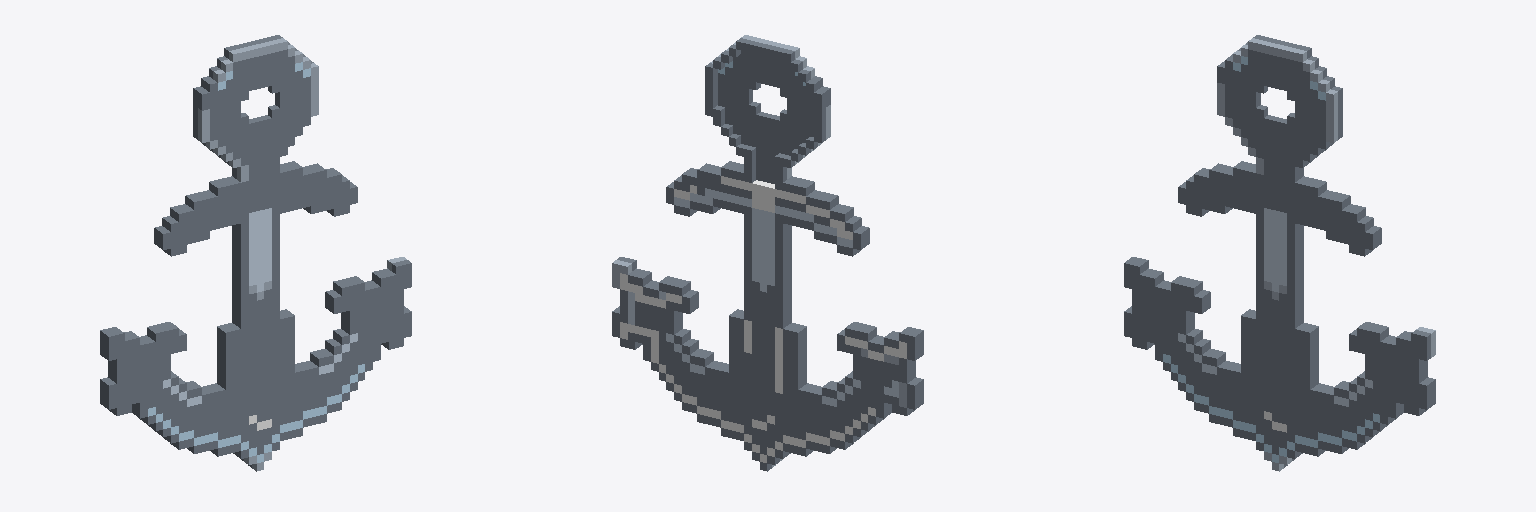
The picture shows the model from 3 angles: view 1: azimuth 30°, elevation 25°; view 2: azimuth 150°, elevation 25°; view 3: azimuth 330°, elevation 25°; orthographic projection.
Parts seen in each view (by area): view 1: ancla3; view 2: ancla3; view 3: ancla3.
Boxes of the visible parts, box(x1,y1,x2,y2) form: ancla3: box(100, 35, 411, 471); ancla3: box(612, 35, 923, 471); ancla3: box(1124, 35, 1435, 471).
Bounding box in the file's own units: 39 × 52 × 2.
1 materials, 1 textured.